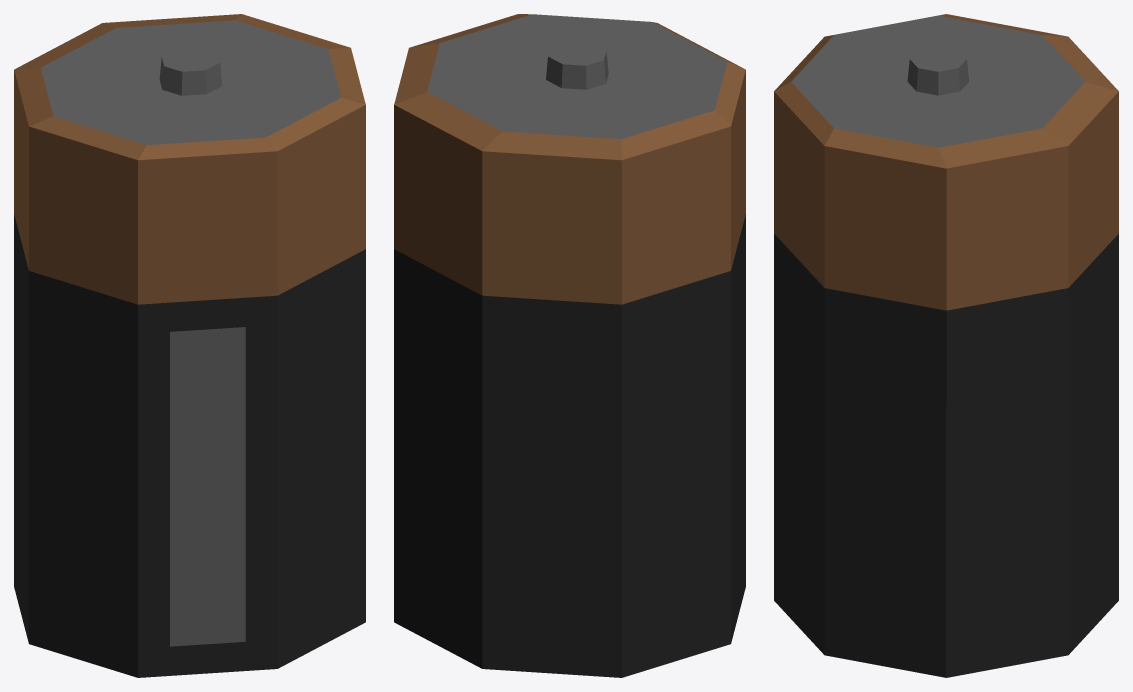
File: Level3_battery.fbx
3 renders of one model, left to right at view 1: azimuth 30°, elevation 25°; view 2: azimuth 150°, elevation 25°; view 3: azimuth 270°, elevation 25°, orthographic.
Parts seen in each view (by area): view 1: Battery_Big; view 2: Battery_Big; view 3: Battery_Big.
Boxes of the visible parts, x1=… form: Battery_Big: x1=14, y1=14, x2=365, y2=677; Battery_Big: x1=394, y1=14, x2=745, y2=677; Battery_Big: x1=774, y1=14, x2=1118, y2=677.
Bounding box in the file's own units: 414 × 674 × 390.
